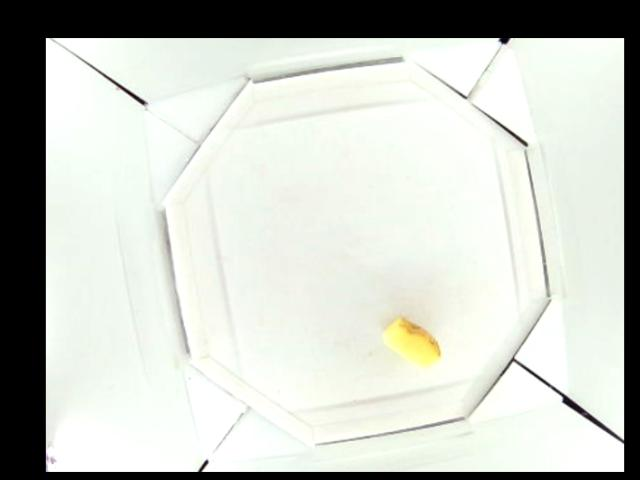Potato: (383, 318, 441, 367)
